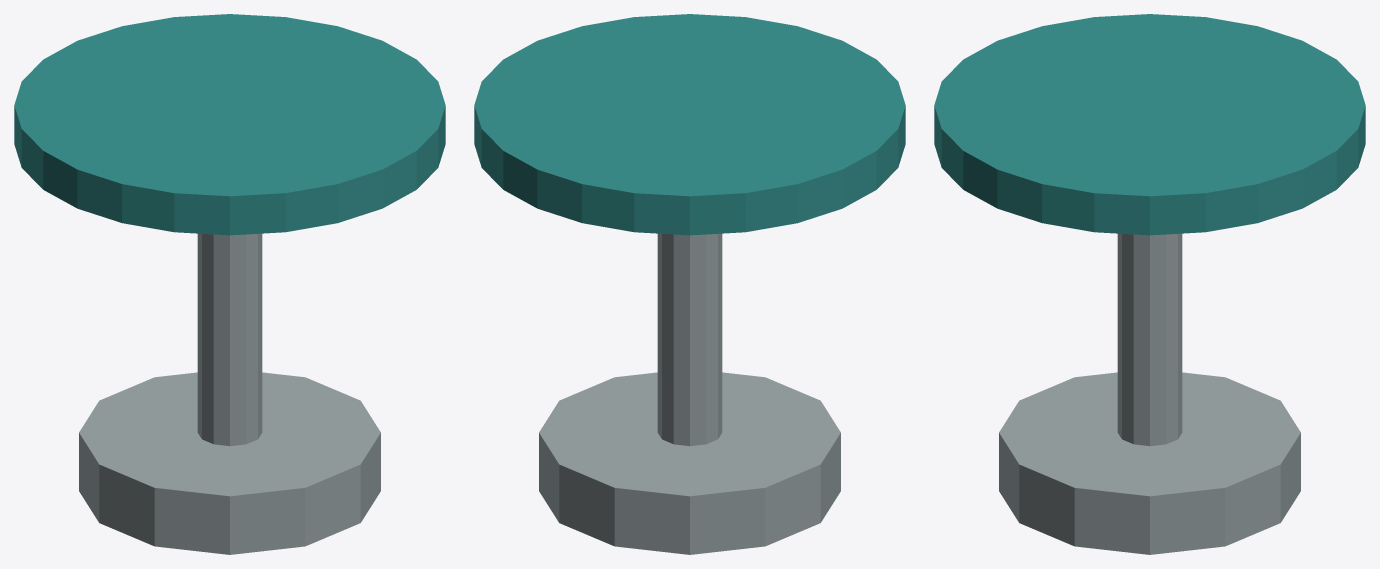
Rendered from Cafe_Table_A.glb.
3 views of the same model, side by side, from view 1: azimuth 30°, elevation 25°; view 2: azimuth 150°, elevation 25°; view 3: azimuth 270°, elevation 25° (orthographic).
Visible parts, largest first — view 1: Cafe_Table_A; view 2: Cafe_Table_A; view 3: Cafe_Table_A.
Part boxes in pixels (left/top/right/bottom): Cafe_Table_A: left=14, top=14, right=445, bottom=554; Cafe_Table_A: left=474, top=14, right=905, bottom=554; Cafe_Table_A: left=934, top=14, right=1365, bottom=554.
Bounding box in the file's own units: 0.8 × 0.79 × 0.8.
